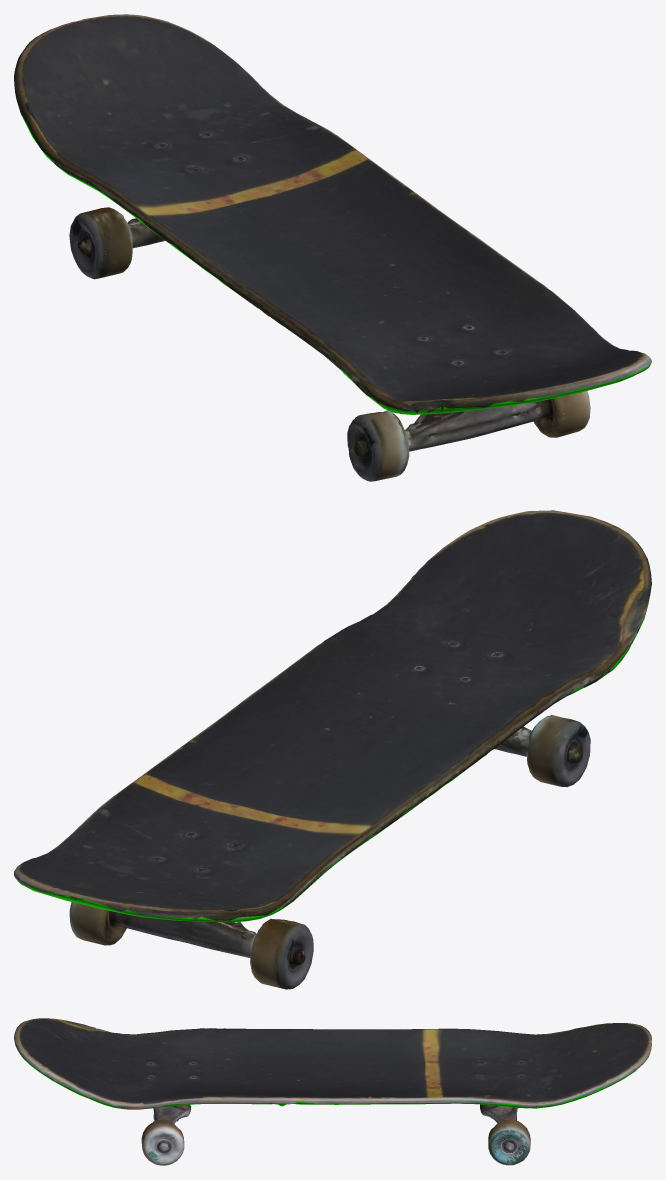
Rendered from skate.glb.
The picture shows the model from 3 angles, top to bottom: view 1: azimuth 30°, elevation 25°; view 2: azimuth 150°, elevation 25°; view 3: azimuth 270°, elevation 25°; orthographic projection. The views are drawn at different scales.
Parts seen in each view (by area): view 1: board; view 2: board; view 3: board.
Boxes of the visible parts, left/top/right/bottom form: board: left=14, top=14, right=651, bottom=481; board: left=14, top=510, right=651, bottom=989; board: left=14, top=1018, right=651, bottom=1165.
Size of what is drawn, in the model's own units: 0.529 by 0.3444 by 2.
Materials: 2 (1 with a texture image).
